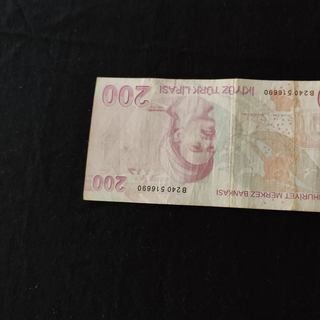200TLBack: (82, 76, 320, 216)
